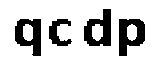c: (46, 18, 73, 48)
d: (81, 7, 114, 50)
p: (116, 15, 151, 60)
q: (11, 17, 44, 60)
